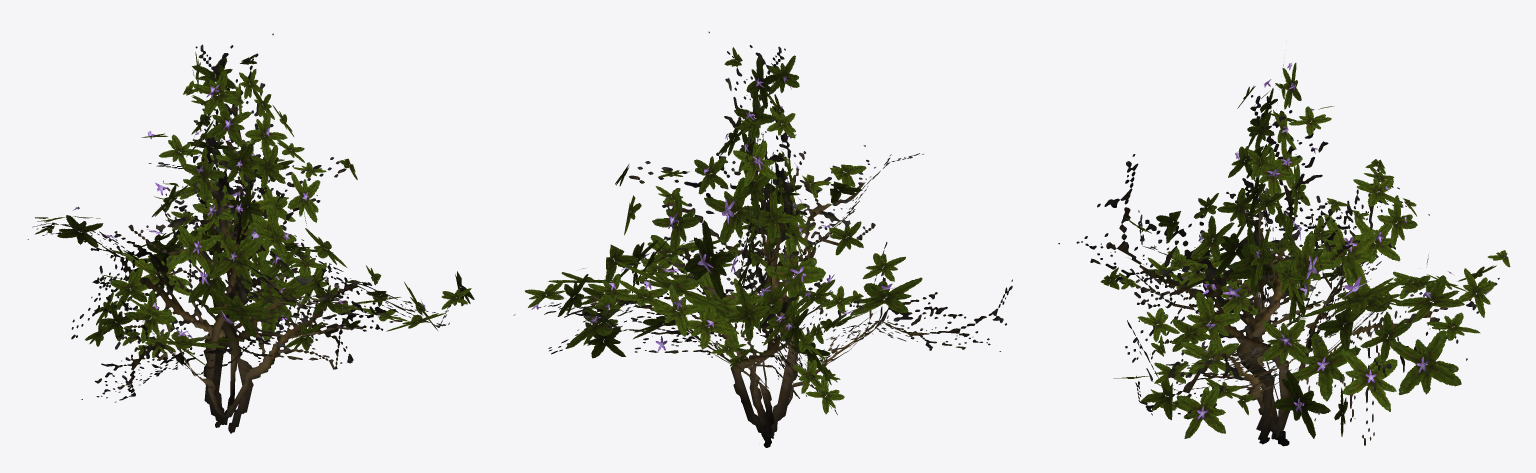
File: bush11.fbx
The picture shows the model from 3 angles, left to right: view 1: azimuth 30°, elevation 25°; view 2: azimuth 150°, elevation 25°; view 3: azimuth 270°, elevation 25°; orthographic projection. The views are drawn at different scales.
Visible parts, largest first — view 1: leaf, branches, flower; view 2: leaf, branches, flower; view 3: leaf, branches, flower.
Boxes of the visible parts, x1,y1,x2,y2 form: leaf: [35, 52, 474, 366]; branches: [27, 33, 455, 433]; flower: [73, 70, 425, 338]; leaf: [525, 47, 922, 414]; branches: [513, 31, 1012, 447]; flower: [531, 76, 894, 350]; leaf: [1100, 63, 1510, 438]; branches: [1058, 64, 1499, 446]; flower: [1182, 63, 1507, 419].
Size of the model in its own units: 95.33 by 101 by 101.
